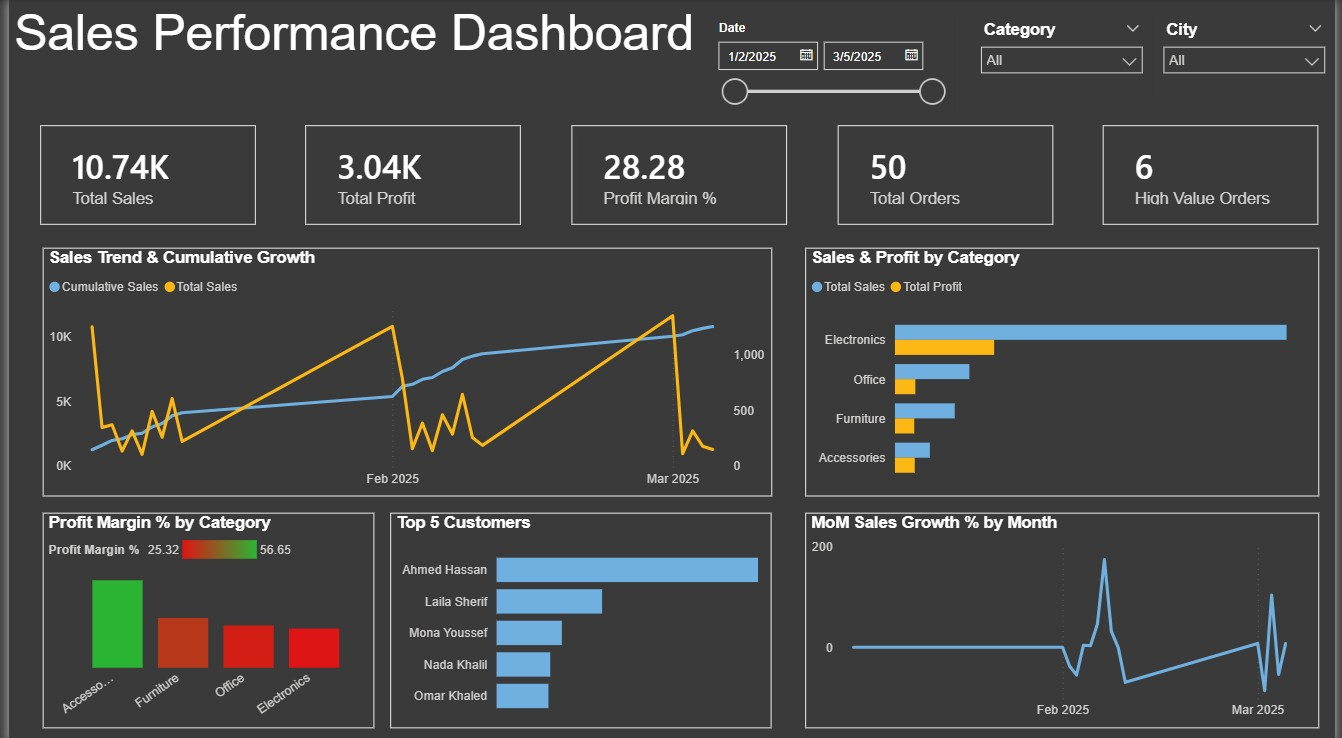

Layout of this report page (visuals, bound fields, positions):
{"tool":"powerbi","page":{"name":"Sales Dashboard","canvas":[1280,720],"ordinal":0},"visuals":[{"type":"cardVisual","fields":{"Data":["_Measures.Total Orders"]},"box":[799.4,122.1,208,96],"z":0},{"type":"cardVisual","title":"Total Sales","fields":{"Data":["_Measures.Total Sales"]},"box":[29.6,122.1,208,96],"z":1000},{"type":"cardVisual","fields":{"Data":["_Measures.Total Profit"]},"box":[286.2,122.1,208,96],"z":2000},{"type":"cardVisual","fields":{"Data":["_Measures.Profit Margin %"]},"box":[542.8,122.1,208,96],"z":3000},{"type":"lineChart","title":"Sales Trend & Cumulative Growth","fields":{"Y":["_Measures.Cumulative Sales"],"Y2":["_Measures.Total Sales"],"Category":["dwh dim_date.full_date"]},"box":[32,240,704,240],"z":4000},{"type":"clusteredBarChart","title":"Sales & Profit by Category","fields":{"Category":["dwh dim_product.category"],"Y":["_Measures.Total Sales","_Measures.Total Profit"]},"box":[768,240,496,240],"z":5000},{"type":"clusteredColumnChart","title":"Profit Margin % by Category","fields":{"Category":["dwh dim_product.category"],"Y":["_Measures.Profit Margin %"]},"box":[32,496,320,208],"z":6000},{"type":"clusteredBarChart","title":"Top 5 Customers","fields":{"Category":["dwh dim_customer.customer_name"],"Y":["_Measures.Total Sales"]},"box":[368,496,368,208],"z":7000},{"type":"lineChart","title":"MoM Sales Growth % by Month","fields":{"Y":["_Measures.MoM Sales Growth %"],"Category":["dwh dim_date.full_date"]},"box":[768,496,496,208],"z":8000},{"type":"cardVisual","fields":{"Data":["_Measures.High Value Orders"]},"box":[1056,122.1,208,96],"z":9000},{"type":"textbox","box":[0,0,1280,112],"z":10000},{"type":"slicer","fields":{"Values":["dwh dim_date.full_date"]},"box":[672,16,240,96],"z":11000},{"type":"slicer","fields":{"Values":["dwh dim_product.category"]},"box":[928,16,176,80],"z":12000},{"type":"slicer","fields":{"Values":["dwh dim_customer.city"]},"box":[1104,16,176,80],"z":13000}]}

Visuals, with their boxes in screenshot pixels (x1, y1, x2, y2), scaled from the page's 1280x720 canvas onto the 1342x738 screenshot:
cardVisual - _Measures.Total Orders: crop(838, 125, 1056, 224)
"Total Sales" cardVisual: crop(31, 125, 249, 224)
cardVisual - _Measures.Total Profit: crop(300, 125, 518, 224)
cardVisual - _Measures.Profit Margin %: crop(569, 125, 787, 224)
"Sales Trend & Cumulative Growth" lineChart: crop(34, 246, 772, 492)
"Sales & Profit by Category" clusteredBarChart: crop(805, 246, 1325, 492)
"Profit Margin % by Category" clusteredColumnChart: crop(34, 508, 369, 722)
"Top 5 Customers" clusteredBarChart: crop(386, 508, 772, 722)
"MoM Sales Growth % by Month" lineChart: crop(805, 508, 1325, 722)
cardVisual - _Measures.High Value Orders: crop(1107, 125, 1325, 224)
textbox: crop(0, 0, 1341, 115)
slicer - dwh dim_date.full_date: crop(705, 16, 956, 115)
slicer - dwh dim_product.category: crop(973, 16, 1157, 98)
slicer - dwh dim_customer.city: crop(1157, 16, 1341, 98)
